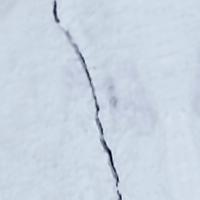crack: (33, 0, 139, 199)
